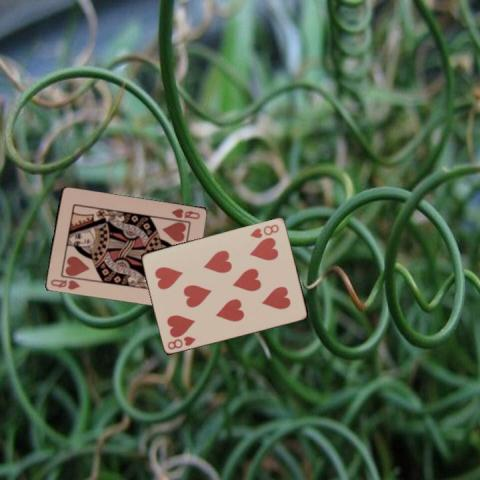8h: (247, 222, 281, 240), (165, 332, 197, 350)
Qh: (48, 276, 82, 291), (168, 206, 201, 221)
